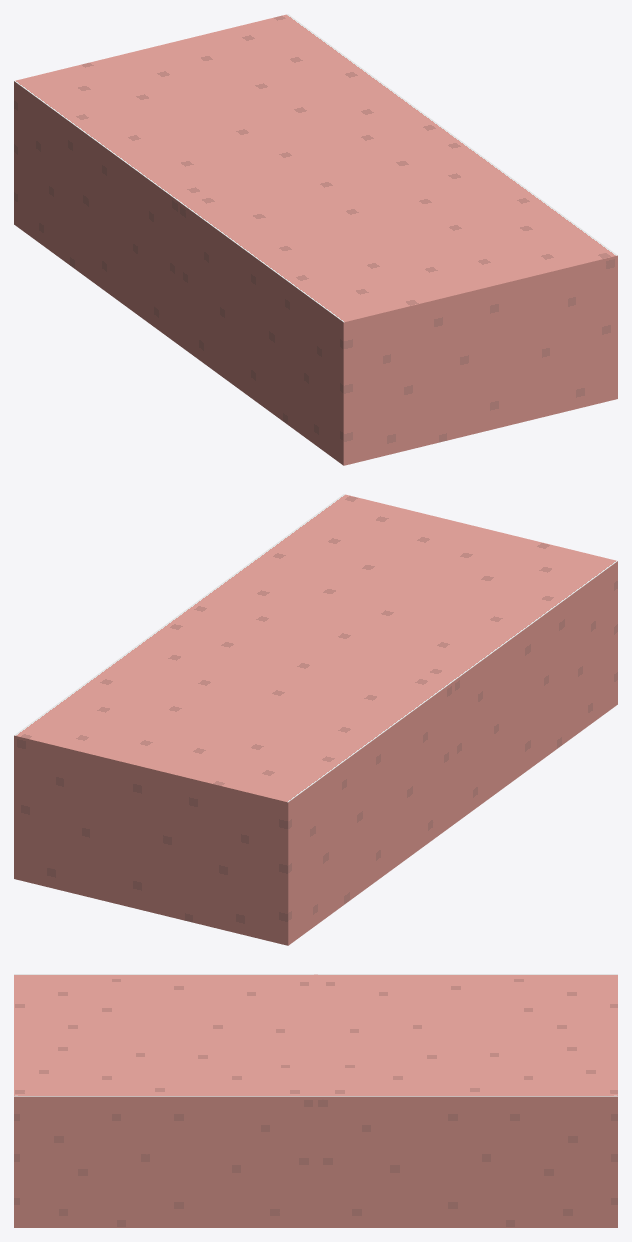
File: 0003_Brick.glb
3 renders of one model, top to bottom at view 1: azimuth 30°, elevation 25°; view 2: azimuth 150°, elevation 25°; view 3: azimuth 270°, elevation 25°, orthographic. The views are drawn at different scales.
Parts seen in each view (by area): view 1: part_0; view 2: part_0; view 3: part_0.
Boxes of the visible parts, x1,y1,x2,y2 form: part_0: [14, 14, 617, 465]; part_0: [14, 494, 617, 945]; part_0: [14, 974, 617, 1227].
Size of the model in its own units: 0.12 by 0.06 by 0.25.
Materials: 1 (1 with a texture image).
